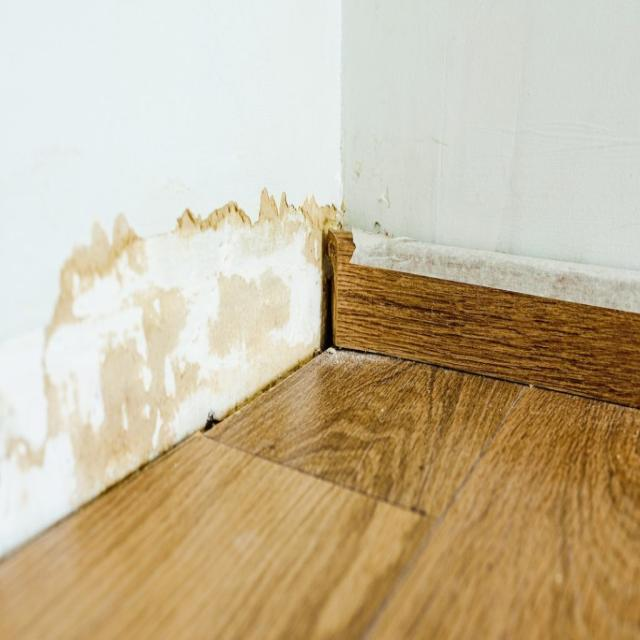dampness: (0, 197, 340, 554)
